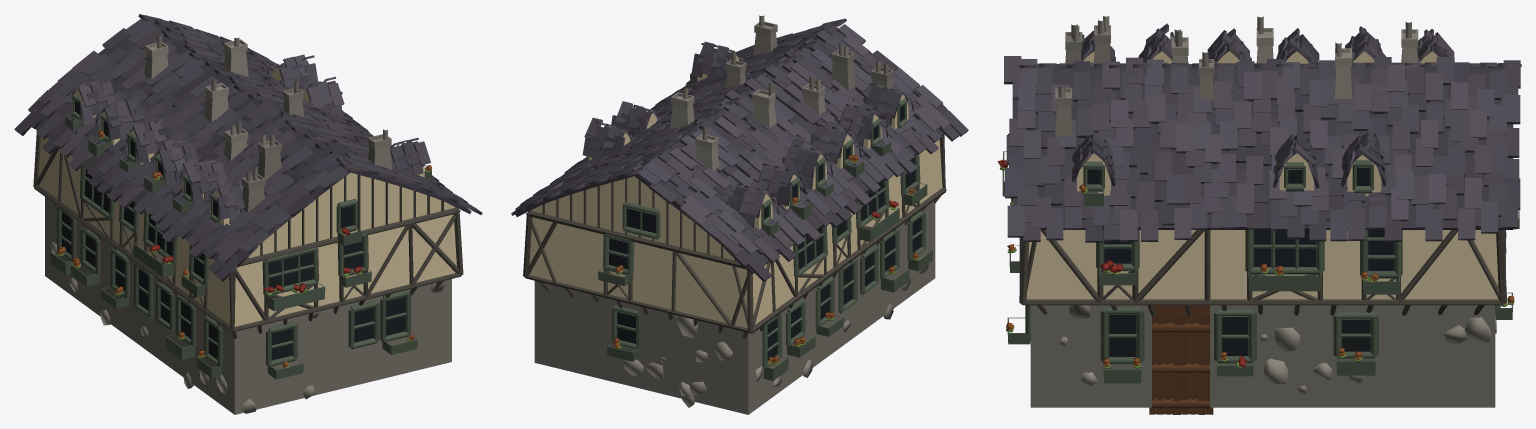
The model's file is house_46.glb.
3 views of the same model, side by side, from view 1: azimuth 30°, elevation 25°; view 2: azimuth 150°, elevation 25°; view 3: azimuth 270°, elevation 25° (orthographic). The views are drawn at different scales.
Visible parts, largest first — view 1: house_46; view 2: house_46; view 3: house_46.
Part boxes in pixels (x1,y1,x2,y2): house_46: (14, 14, 482, 414); house_46: (511, 15, 968, 414); house_46: (997, 16, 1521, 414).
Size of the model in its own units: 7.05 by 6.71 by 9.85.
